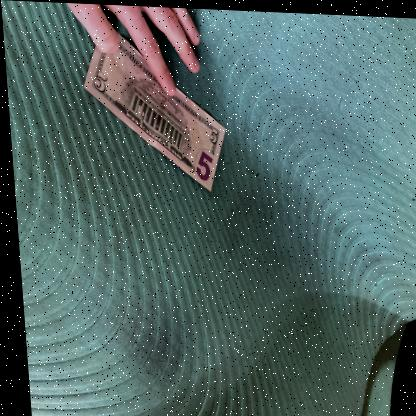five-back: (77, 30, 228, 197)
